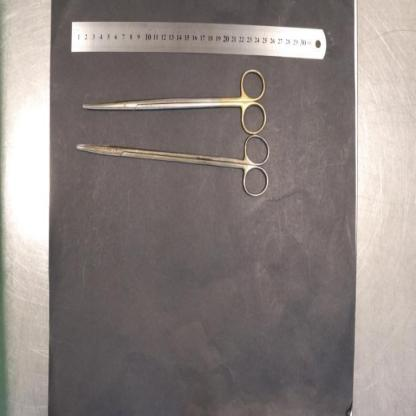7 Metzenbaum Scissors: (82, 64, 267, 132)
9 Metzenbaum Scissors: (77, 134, 270, 198)
